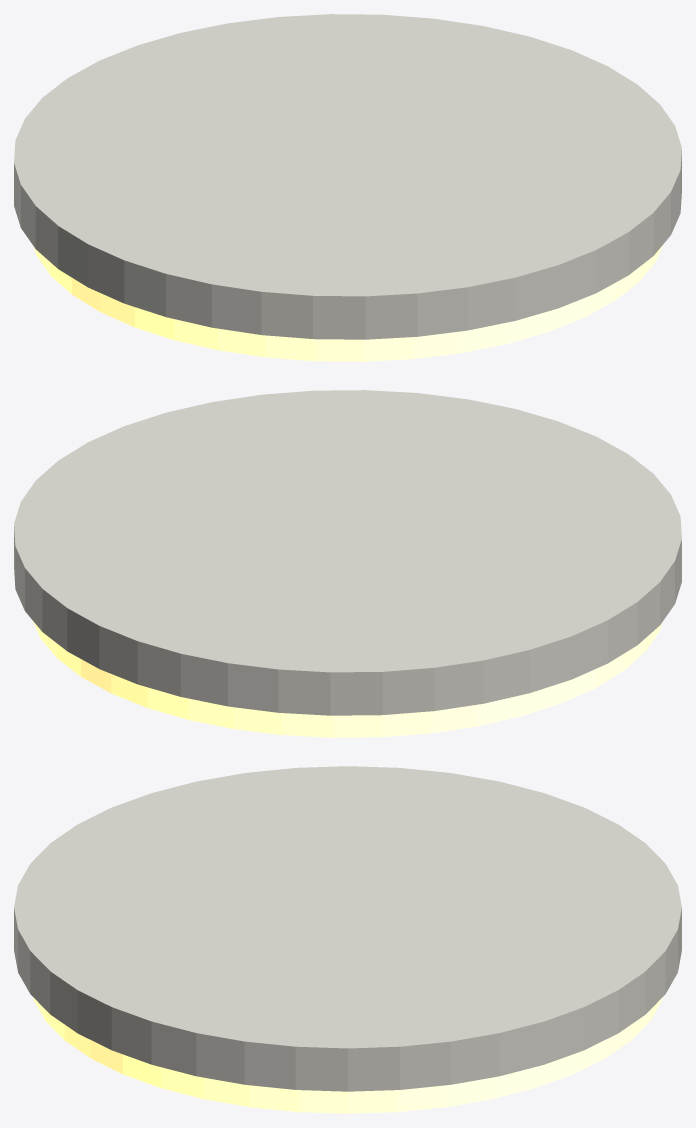
Rendered from 04_ceiling_disk.glb.
The picture shows the model from 3 angles, top to bottom: view 1: azimuth 30°, elevation 25°; view 2: azimuth 150°, elevation 25°; view 3: azimuth 270°, elevation 25°; orthographic projection.
Bounding box in the file's own units: 0.42 × 0.05 × 0.42.
